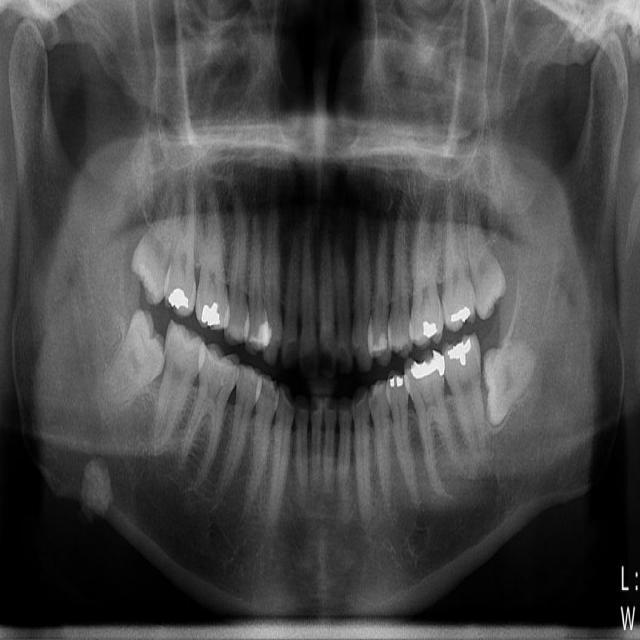3M ESPE Implant: (123, 196, 184, 308)
52: (396, 347, 455, 404), (437, 333, 488, 392), (433, 285, 486, 337), (406, 301, 447, 350), (162, 264, 199, 316), (196, 280, 229, 330), (241, 310, 271, 354), (365, 322, 393, 367), (387, 372, 409, 407)
73: (586, 582, 598, 608)
BioHorizons Implant: (439, 200, 479, 332)
BioLife Implant: (459, 198, 511, 319)
Biomet 3i Implant: (477, 340, 544, 426)
Blue Sky Bio Implant: (441, 333, 489, 455)
Caries: (162, 190, 196, 318)
Implant: (154, 318, 208, 456)
Keystone Dental Implant: (90, 306, 185, 424)
